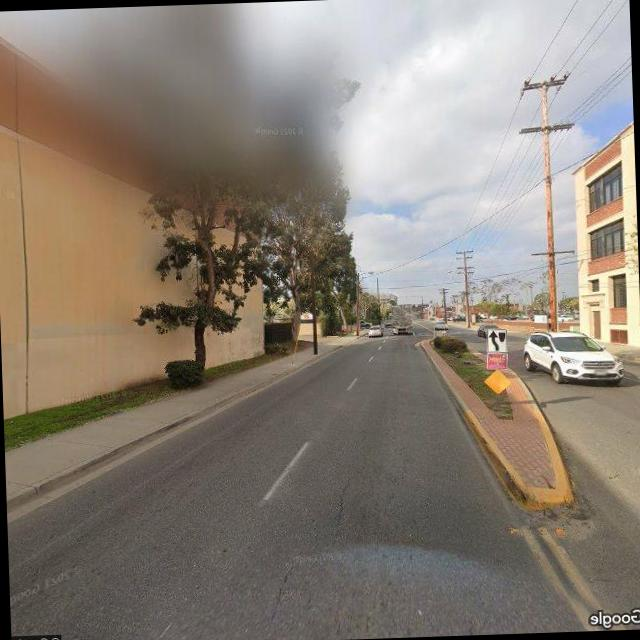pothole: (331, 474, 356, 531)
